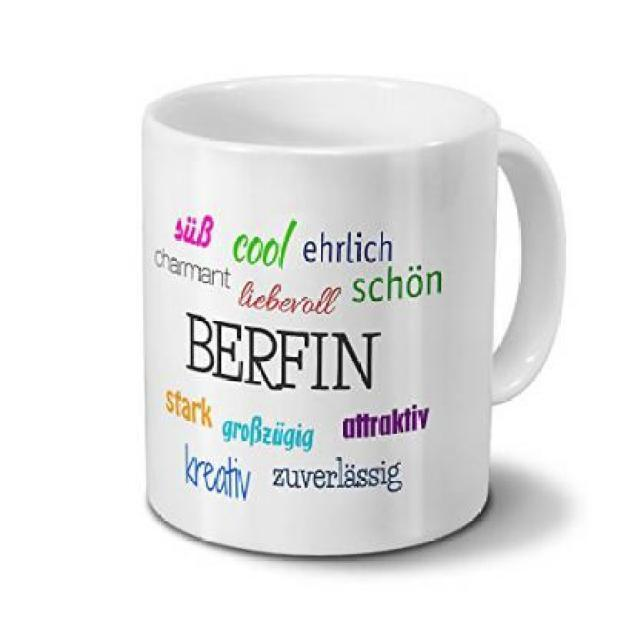taza: (122, 70, 577, 567)
